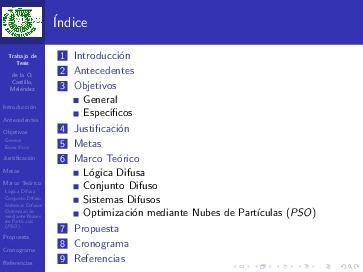paragraph: (53, 47, 323, 272)
title: (49, 11, 94, 35)
